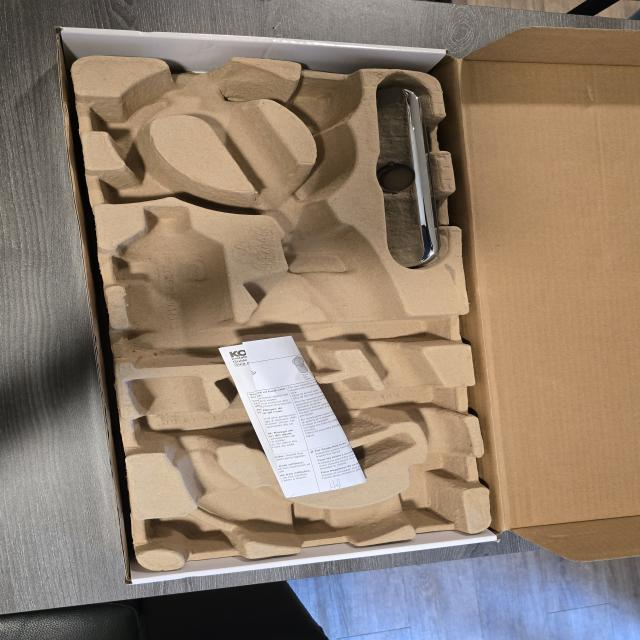1m: (127, 61, 469, 543)
2m: (215, 375, 409, 478)
3m: (118, 207, 234, 366)
4: (374, 87, 442, 268)
5m: (294, 87, 346, 130)
6m: (92, 88, 175, 139)
7m: (105, 159, 206, 204)
8: (218, 335, 368, 497)
